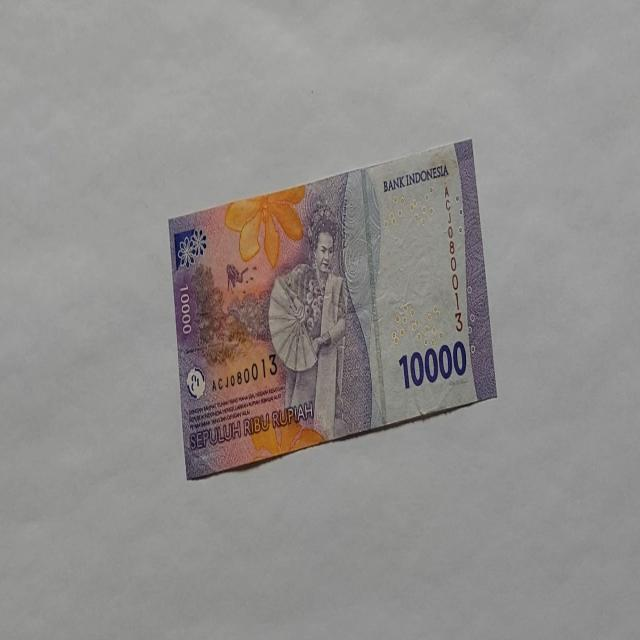sepuluh ribu rupiah: (167, 137, 497, 480)
